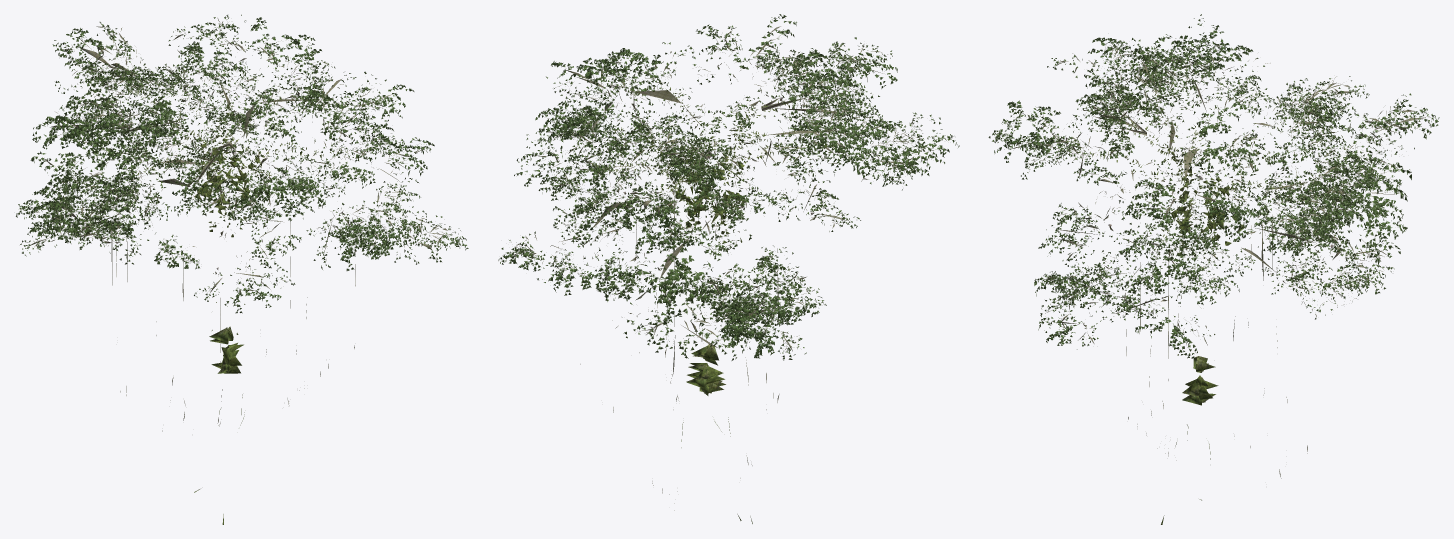
The model's file is ceiba0.glb.
The picture shows the model from 3 angles, left to right: view 1: azimuth 30°, elevation 25°; view 2: azimuth 150°, elevation 25°; view 3: azimuth 270°, elevation 25°; orthographic projection. The views are drawn at different scales.
Visible parts, largest first — view 1: Kapok_High_KapokLeaf 1_0 (×22), Kapok_High_KapokBark_0 (×3), Kapok_High_KapokBranch_0; view 2: Kapok_High_KapokLeaf 1_0 (×22), Kapok_High_KapokBark_0 (×3), Kapok_High_KapokBranch_0; view 3: Kapok_High_KapokLeaf 1_0 (×22), Kapok_High_KapokBark_0 (×3), Kapok_High_KapokBranch_0.
Part boxes in pixels (x1,y1,x2,y2): Kapok_High_KapokLeaf 1_0 (×22): [16, 14, 468, 313]; Kapok_High_KapokBark_0 (×3): [23, 18, 452, 431]; Kapok_High_KapokBranch_0: [116, 71, 359, 524]; Kapok_High_KapokLeaf 1_0 (×22): [498, 14, 959, 360]; Kapok_High_KapokBark_0 (×3): [502, 26, 942, 510]; Kapok_High_KapokBranch_0: [592, 85, 854, 523]; Kapok_High_KapokLeaf 1_0 (×22): [988, 14, 1439, 358]; Kapok_High_KapokBark_0 (×3): [997, 38, 1429, 478]; Kapok_High_KapokBranch_0: [1073, 75, 1344, 524].
Bounding box in the file's own units: 77.22 × 87.57 × 78.08.
Materials: 4 (4 with a texture image).
